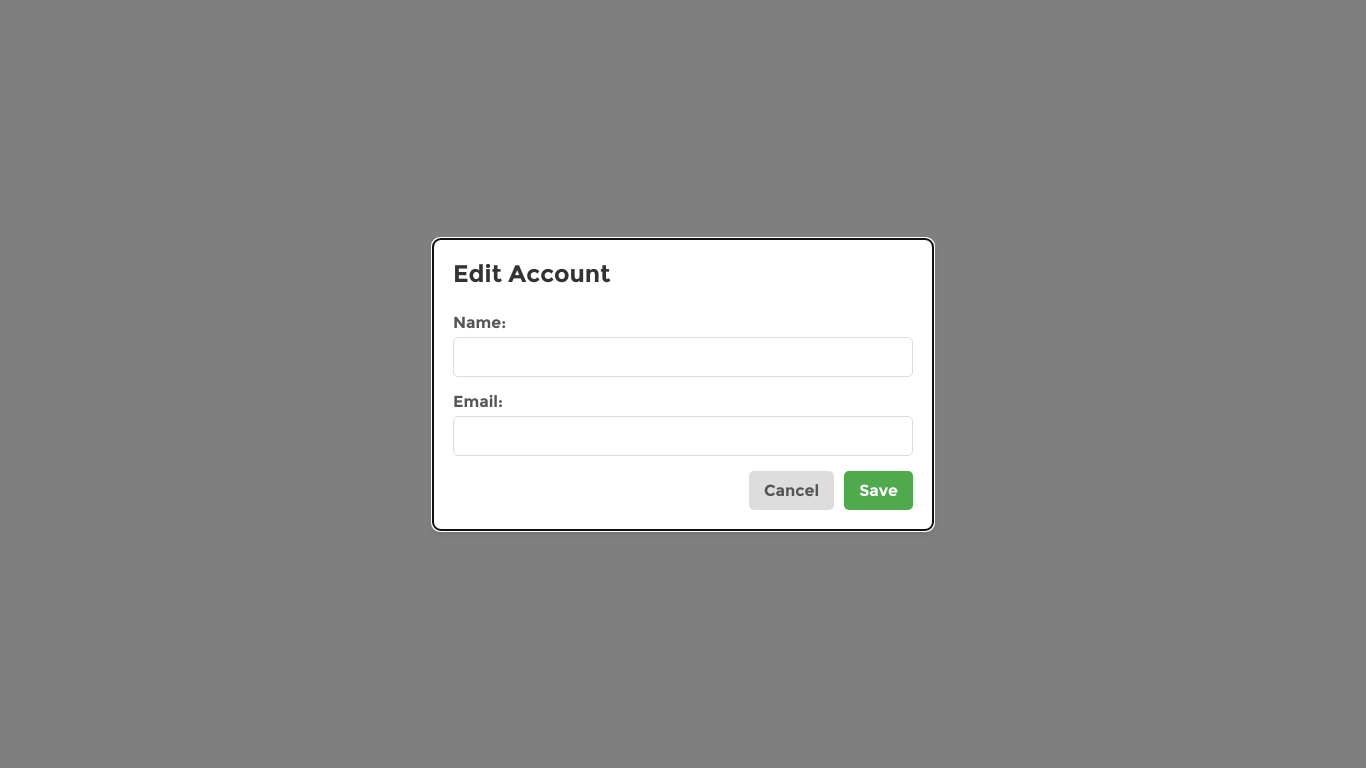
Test case: EditAccountModal › validates empty fields and prevents save
Click the button "Save".
click(879, 490)  # box x1=844 y1=470 x2=913 y2=510
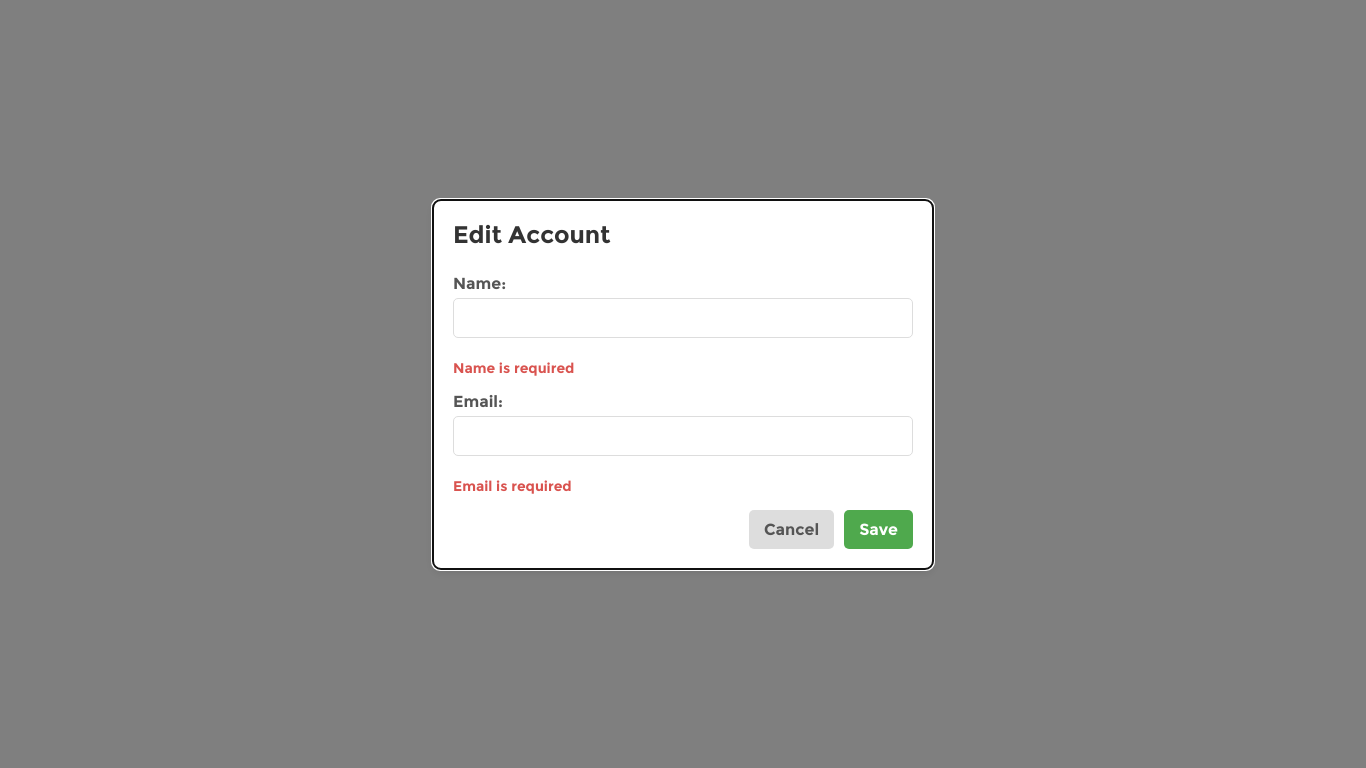
expect the text "Name is required" is shown: met, box x1=453 y1=358 x2=574 y2=376
expect the text "Email is required" is shown: met, box x1=453 y1=476 x2=572 y2=494
